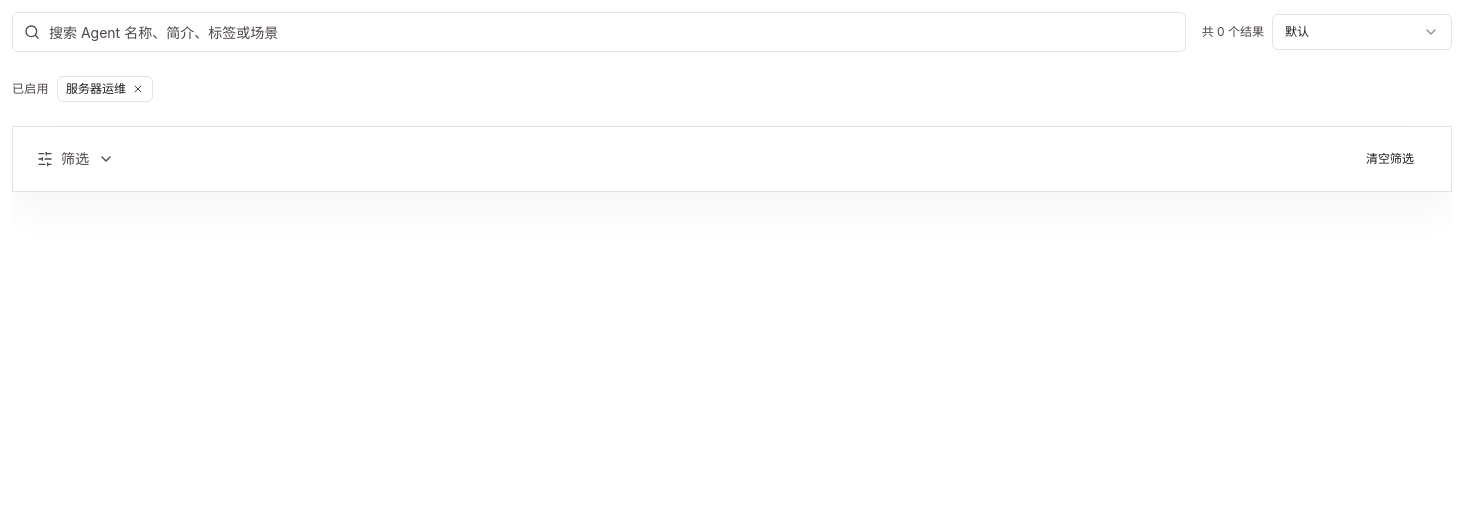
Scenario: SearchFilterBar › keeps the detailed filter panel collapsed by default even when filters are active
The width and height of the screenshot is (1464, 506).
Expected: the text "已启用" is shown, [12,81,49,97]
Expected: the text "服务器运维" is shown, [66,81,126,97]
Click the button "筛选": (75, 159) [29,141,122,177]
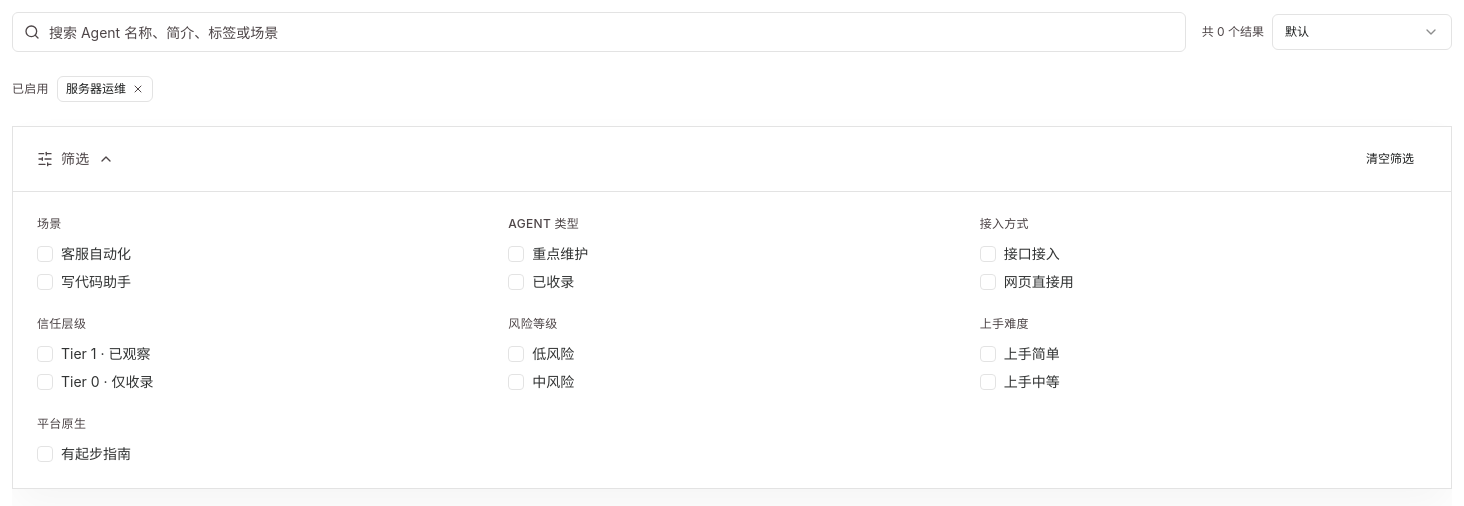
Expected: the button "筛选" is expanded, [29,141,122,177]
Expected: the checkbox labelled "客服自动化" is shown, [37,246,53,262]
